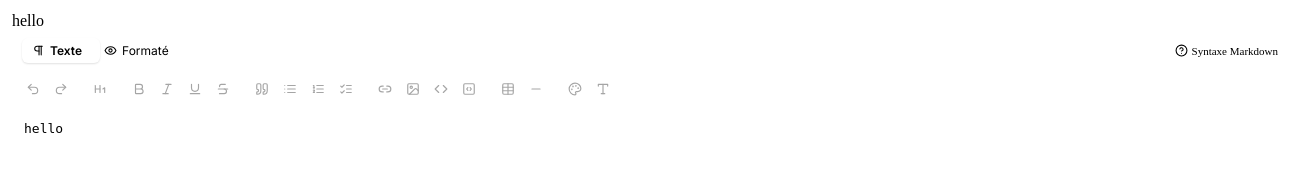
Test: MarkdownEditor bascule de mode › n'active la barre de mise en forme qu'en mode Formaté
Expected: the button titled "Gras (Ctrl+B)" is disabled, [126, 76, 152, 102]
Click the tab "Formaté".
click(136, 50)  # box [94, 38, 179, 63]
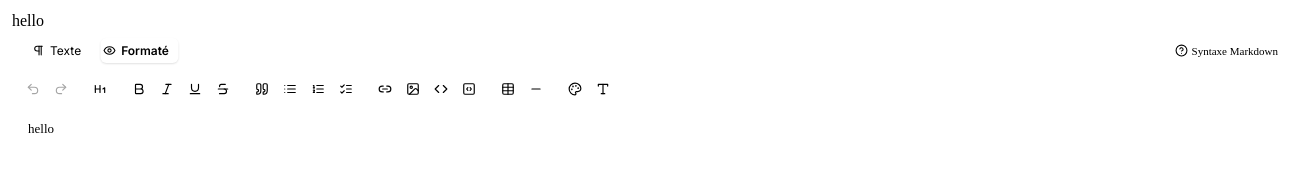
Result: the button titled "Gras (Ctrl+B)" is enabled at [126, 76, 152, 102]
